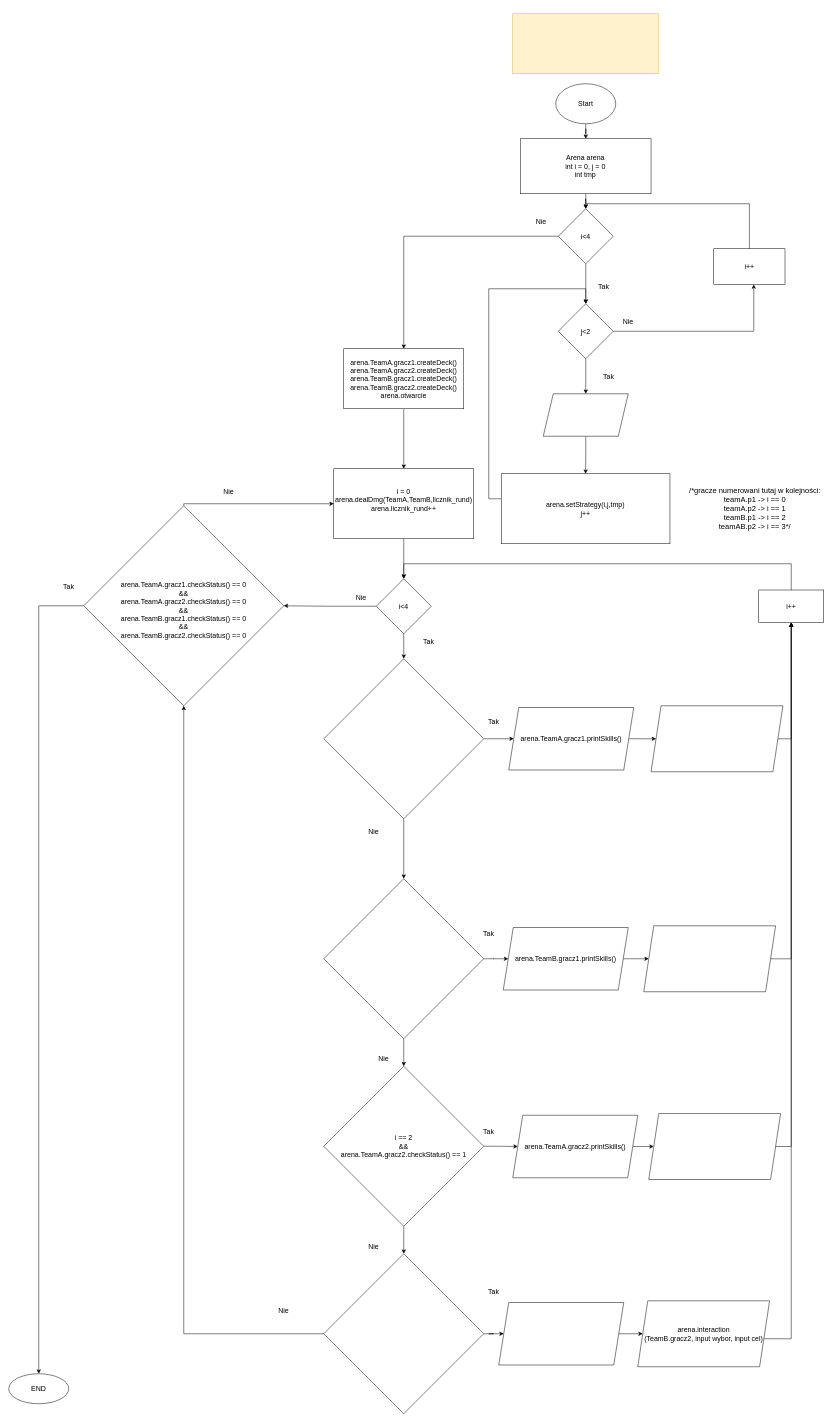
Some shapes in this 833 by 1423 pixel diagram are drawn without their labels. The centre of each missing label's shape, as x and y in pixels:
"arena.interaction (TeamA.gracz1, input wybor, input cel)" goes at point 717,738.
"arena.interaction (TeamA.gracz2, input wybor, input cel)" goes at point 714,1146.
"arena.interaction (TeamB.gracz1, input wybor, input cel)" goes at point 709,958.
"arena.TeamB.gracz2.printSkills()" goes at point 561,1333.
"BakuBattle Schemat blokowy obrazujący logikę gry." goes at point 585,43.
"i == 0 && arena.TeamA.gracz1.checkStatus() == 1" goes at point 403,738.
"i == 1 && arena.TeamB.gracz1.checkStatus() == 1" goes at point 403,958.
"i == 3 && arena.TeamB.gracz2.checkStatus() == 1" goes at point 403,1333.
"Wybierz strategie ( input tmp)" goes at point 585,414.
